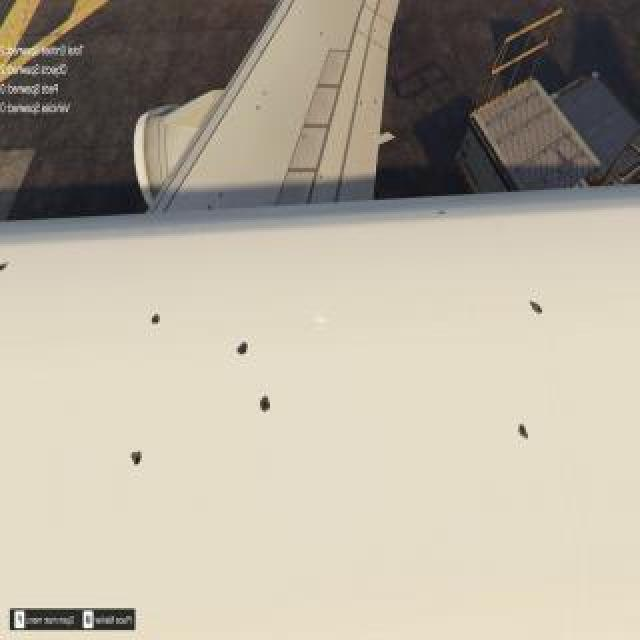crack: (529, 299, 545, 319), (261, 394, 273, 418), (236, 337, 248, 361), (128, 449, 144, 467), (517, 424, 531, 442), (150, 312, 162, 328), (218, 186, 226, 202), (437, 207, 447, 217), (204, 202, 212, 214), (374, 99, 380, 105), (257, 103, 261, 111), (303, 133, 307, 141), (320, 174, 324, 182), (360, 101, 364, 109), (263, 90, 267, 98), (320, 30, 324, 38), (374, 27, 378, 35)
